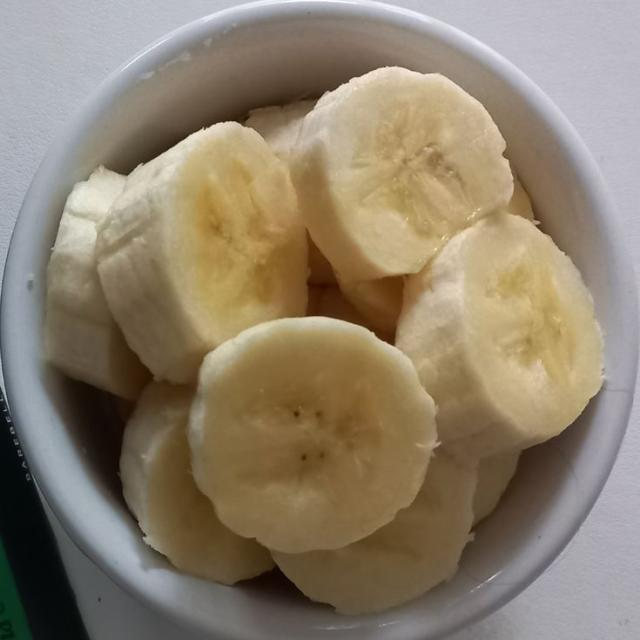banana slice: (189, 317, 436, 552), (97, 123, 307, 382), (397, 213, 603, 457), (290, 68, 512, 280), (272, 450, 476, 613), (121, 383, 273, 584), (45, 167, 148, 398), (314, 286, 395, 342), (245, 100, 316, 160), (245, 101, 316, 161), (338, 277, 403, 336), (473, 450, 520, 525), (317, 286, 372, 330), (308, 235, 336, 285), (507, 176, 534, 220), (306, 286, 324, 315)
